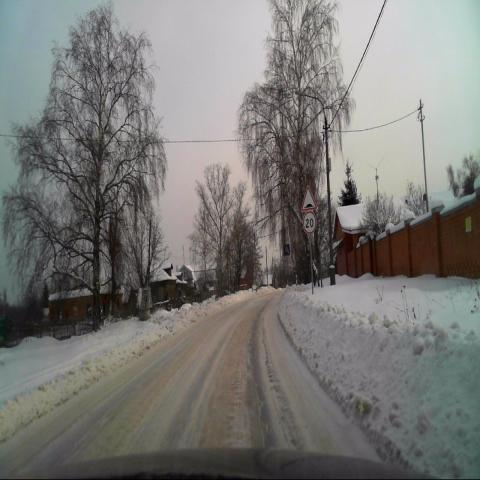3_24: (303, 211, 317, 234)
